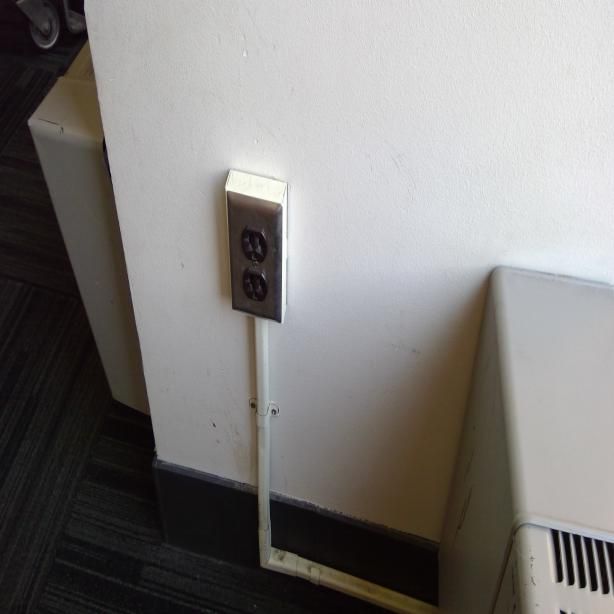typeb: (242, 226, 268, 264), (245, 271, 267, 303)
